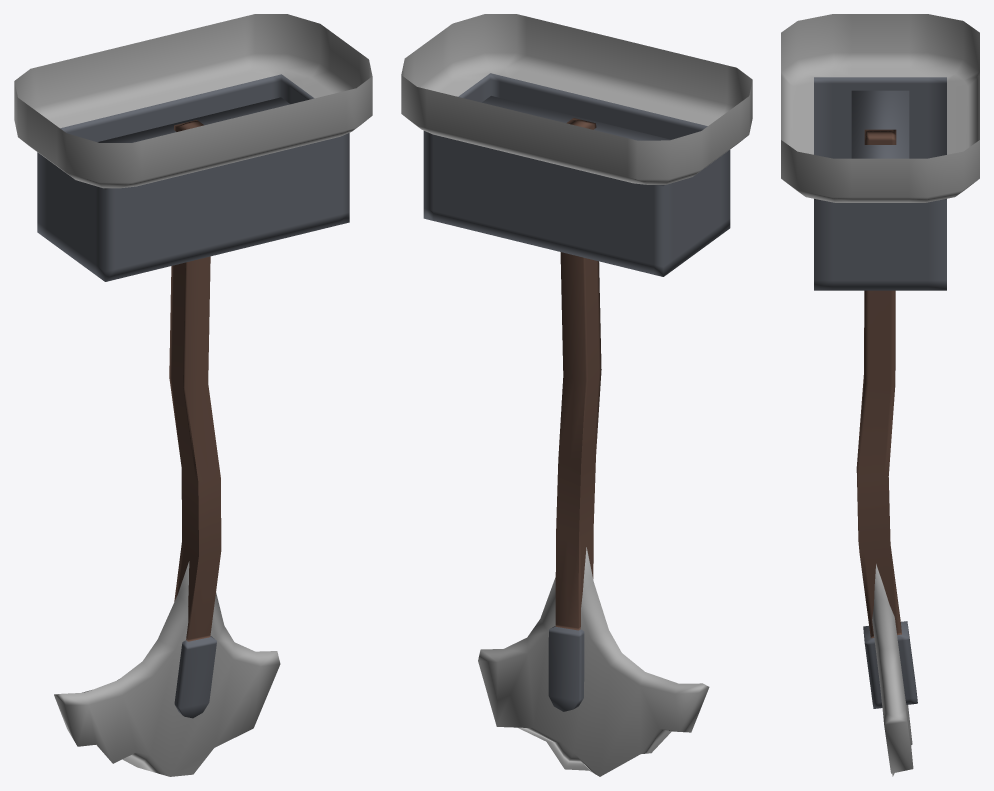
Rendered from axeTrap_broken.fbx.
3 renders of one model, left to right at view 1: azimuth 30°, elevation 25°; view 2: azimuth 150°, elevation 25°; view 3: azimuth 270°, elevation 25°, orthographic. The views are drawn at different scales.
Visible parts, largest first — view 1: axe_broken_top, axe_broken; view 2: axe_broken_top, axe_broken; view 3: axe_broken_top, axe_broken.
Boxes of the visible parts, left/top/right/bottom form: axe_broken_top: left=14, top=14, right=372, bottom=281; axe_broken: left=54, top=120, right=280, bottom=776; axe_broken_top: left=401, top=14, right=752, bottom=276; axe_broken: left=478, top=118, right=709, bottom=776; axe_broken_top: left=781, top=14, right=979, bottom=290; axe_broken: left=856, top=129, right=917, bottom=776.
Size of the model in its own units: 124 by 275 by 71.92.
